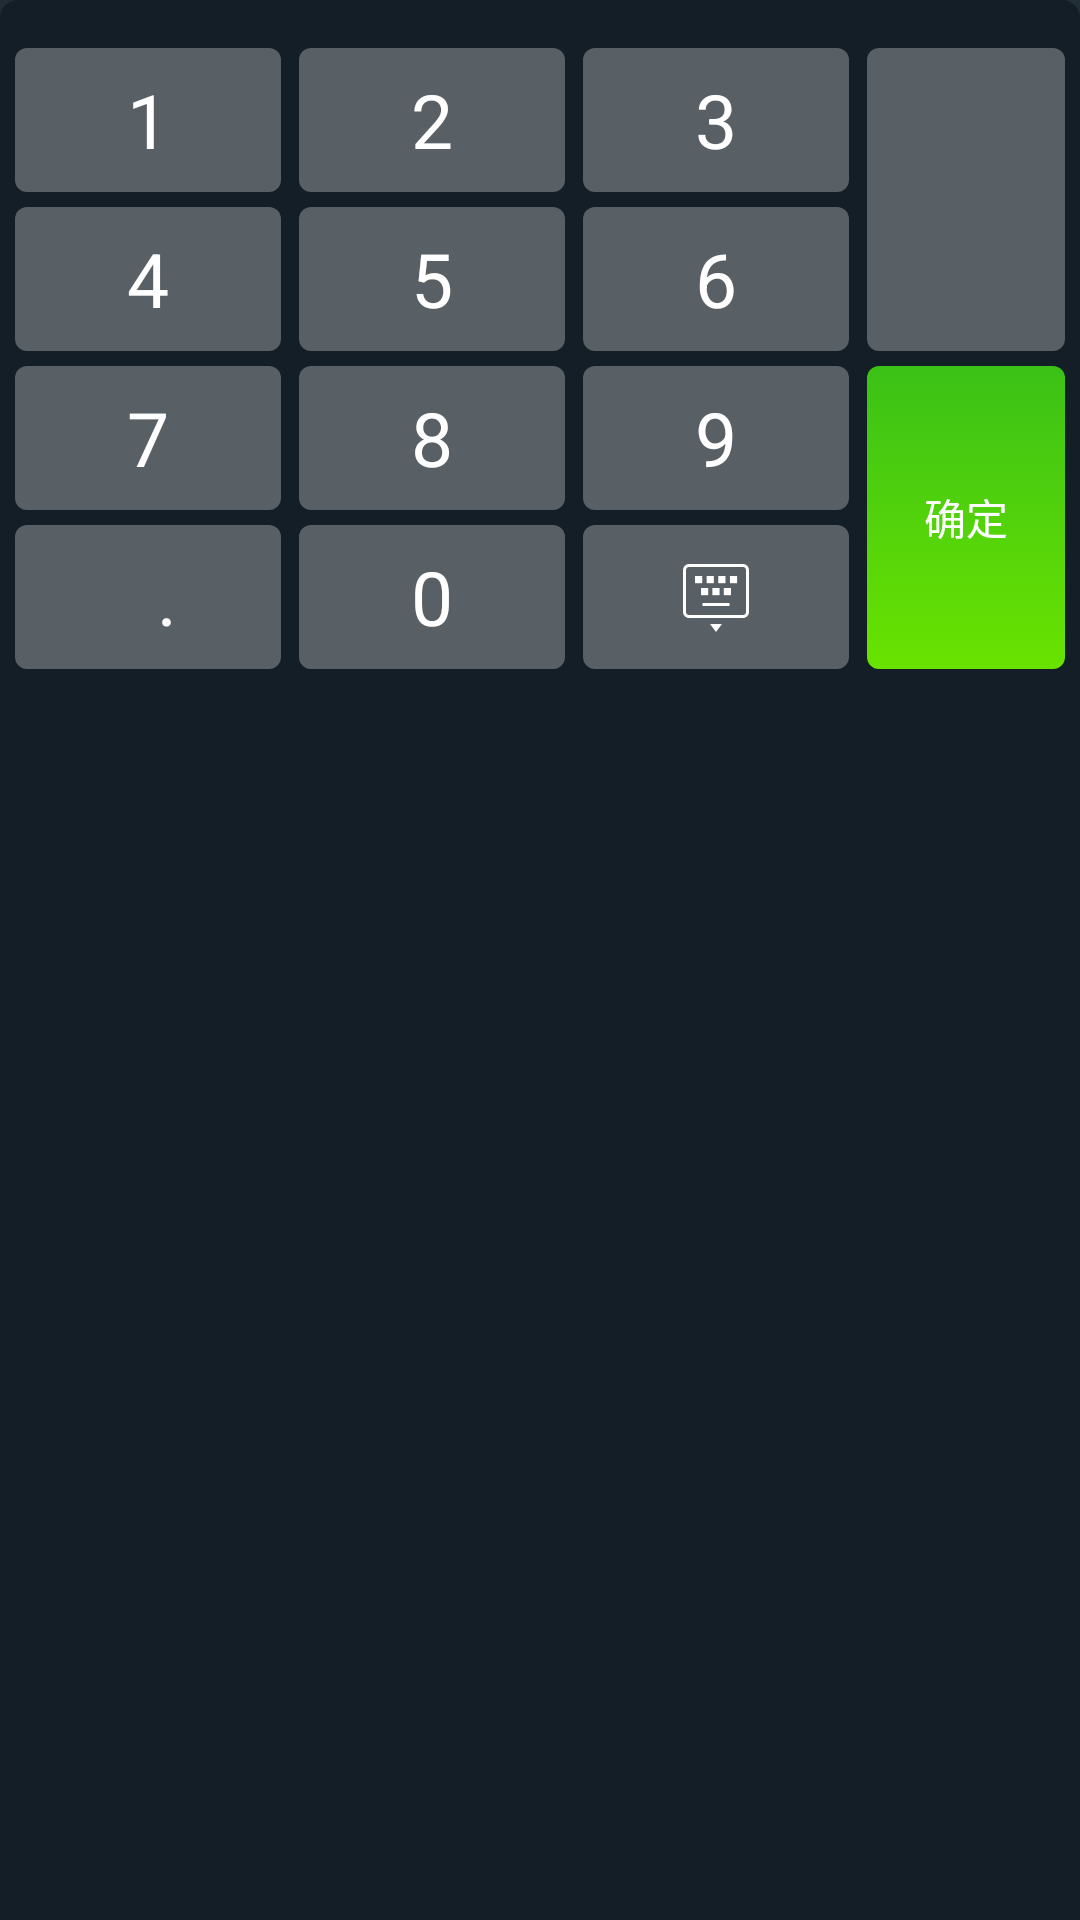

Named icons in this screenshot (1080 × 1920) and their centers, (x=x, y=y):
pack up: (x=716, y=597)
